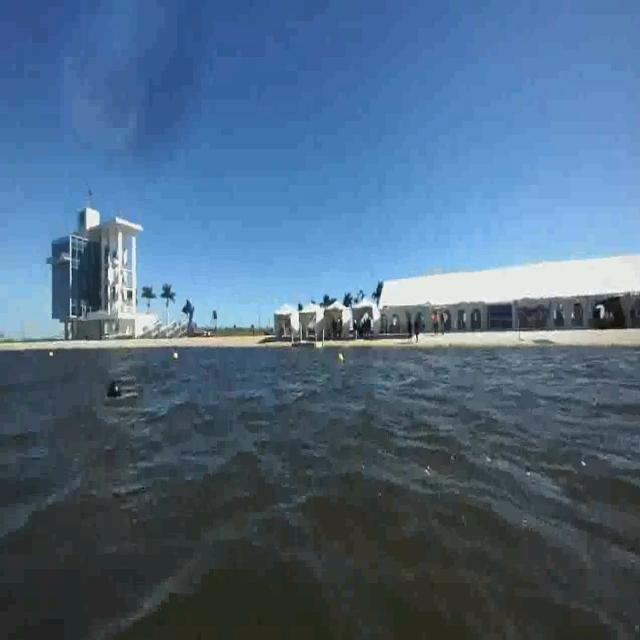black-buoy: (106, 379, 120, 400)
yellow-buoy: (338, 352, 346, 364)
